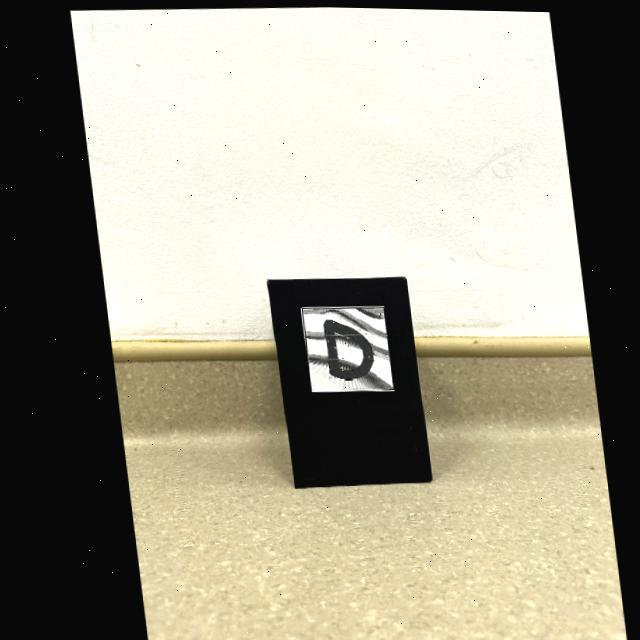D: (318, 318, 367, 378)
